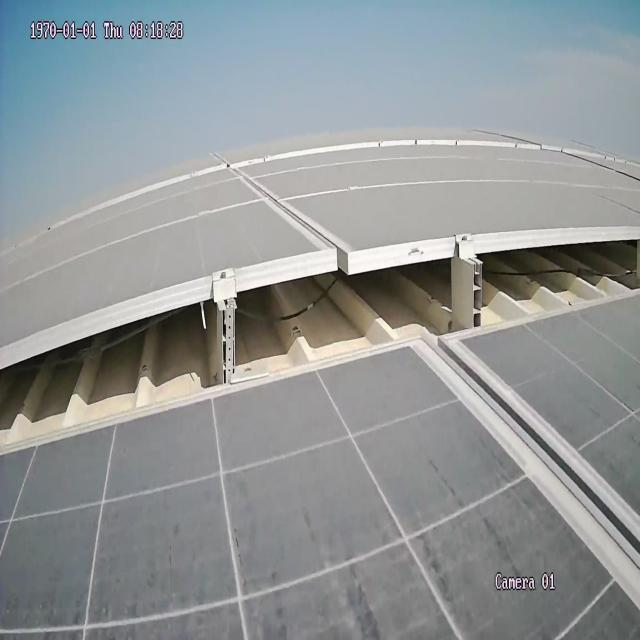interior panel: (427, 351, 639, 605), (225, 163, 349, 245)
outher panel: (3, 228, 638, 447)
